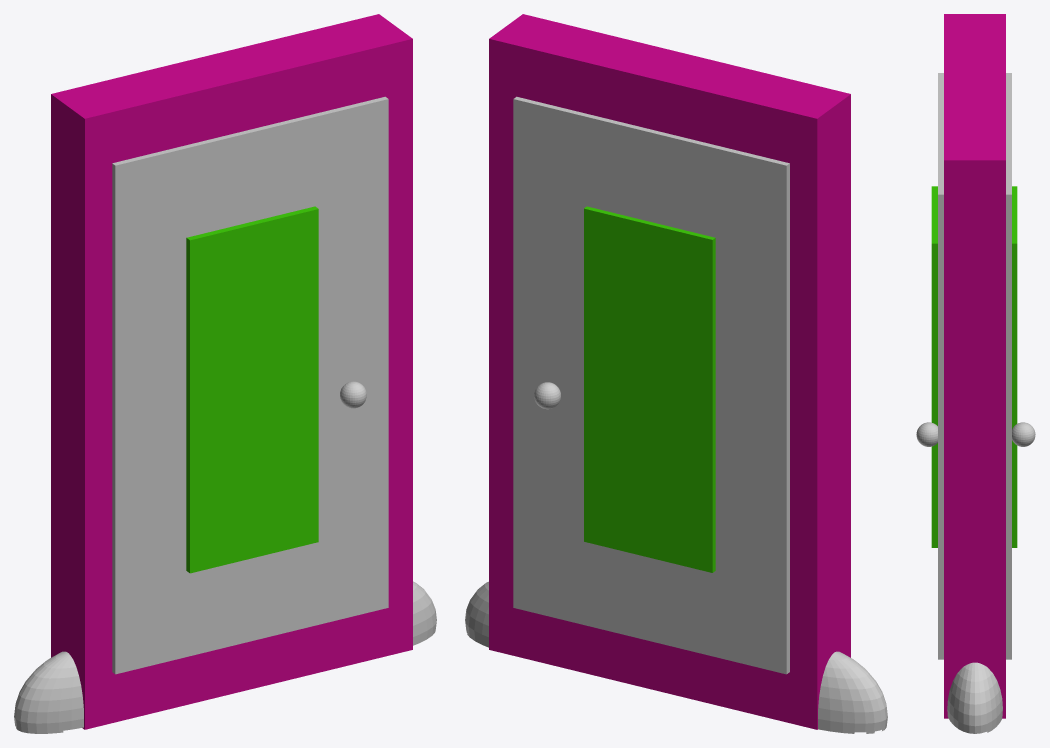
File: pintuDoraemonLegacy.obj
3 renders of one model, left to right at view 1: azimuth 30°, elevation 25°; view 2: azimuth 150°, elevation 25°; view 3: azimuth 270°, elevation 25°, orthographic. The views are drawn at different scales.
Visible parts, largest first — view 1: Door_Cube, Door_Frame_Cube.001, Cube_Cube.002, Door_Leg.001_Sphere.003, Door_Leg_Sphere.002; view 2: Door_Cube, Door_Frame_Cube.001, Cube_Cube.002, Door_Leg.001_Sphere.003, Door_Leg_Sphere.002; view 3: Door_Frame_Cube.001, Door_Cube, Cube_Cube.002, Door_Leg_Sphere.002, Front_Door_Knob_Sphere, Back_Door_Knob_Sphere.001.
Part boxes in pixels (x1,y1,x2,y2): Door_Cube: (112, 96, 388, 674); Door_Frame_Cube.001: (51, 14, 412, 729); Cube_Cube.002: (186, 206, 318, 573); Door_Leg.001_Sphere.003: (14, 651, 83, 733); Door_Leg_Sphere.002: (413, 581, 436, 645); Door_Cube: (513, 96, 789, 674); Door_Frame_Cube.001: (489, 14, 850, 729); Cube_Cube.002: (584, 206, 715, 572); Door_Leg.001_Sphere.003: (818, 651, 887, 733); Door_Leg_Sphere.002: (465, 581, 488, 647); Door_Frame_Cube.001: (944, 14, 1005, 718); Door_Cube: (938, 73, 1011, 659); Cube_Cube.002: (931, 186, 1017, 547); Door_Leg_Sphere.002: (947, 662, 1002, 733); Front_Door_Knob_Sphere: (1012, 422, 1035, 446); Back_Door_Knob_Sphere.001: (916, 422, 937, 446).
Bounding box in the file's own units: 7.05 × 9.83 × 1.9.
